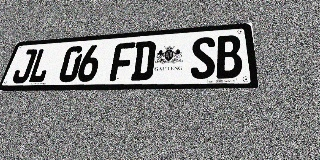0: (57, 46, 84, 82)
6: (76, 44, 103, 82)
B: (216, 35, 243, 79)
D: (130, 41, 156, 81)
F: (109, 42, 135, 81)
J: (10, 49, 38, 83)
L: (27, 48, 54, 83)
S: (190, 36, 216, 79)
